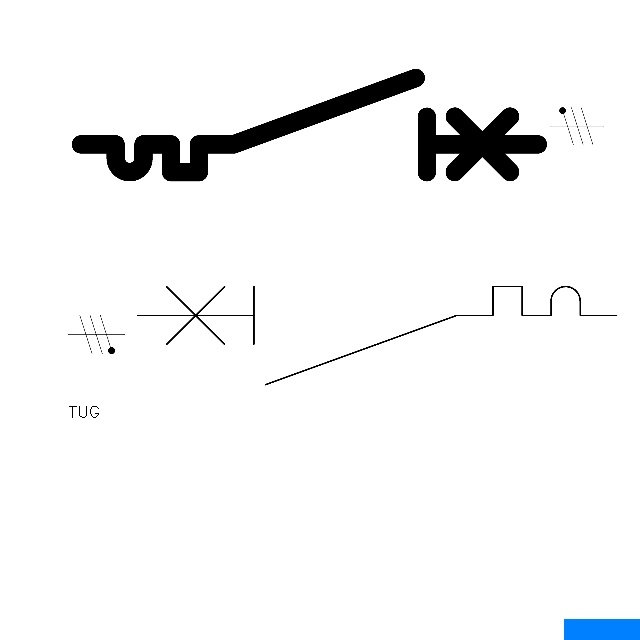interruptor_termomagnetico: (125, 274, 629, 397), (69, 66, 549, 184)
